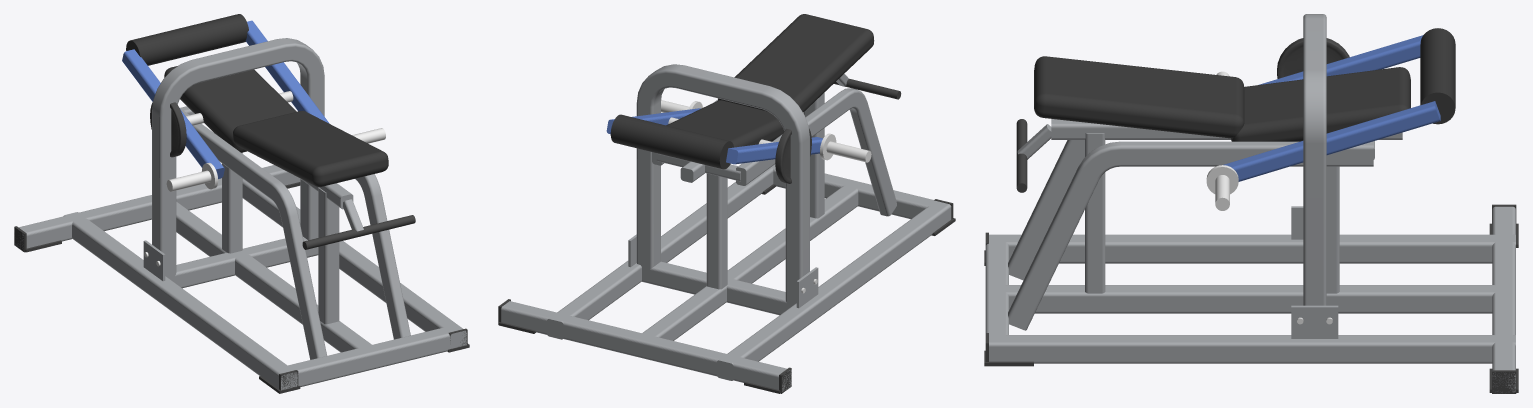
3 renders of one model, left to right at view 1: azimuth 30°, elevation 25°; view 2: azimuth 150°, elevation 25°; view 3: azimuth 270°, elevation 25°, orthographic. The views are drawn at different scales.
Visible parts, largest first — view 1: base, arch_tube, bench_rail_tube (×2), bench_pad_front, bench, bench_pad_rear, lever_roller, lever_support, lever_bar (×2), lever_tail (×2), lever_horn, lever_cam (+1 smaller); view 2: base, arch_tube, bench_pad_front, bench, bench_rail_tube, lever_roller, bench_pad_rear, lever_support, lever_bar, lever_horn, lever_cam, gusset; view 3: base, bench_rail_tube (×2), bench_pad_front, bench_pad_rear, bench, arch_tube, lever_bar (×2), lever_roller, lever_tail, gusset, lever_cam, lever_horn (+1 smaller).
Boxes of the visible parts, x1,y1,x2,y2 form: base: (14,165,466,390); arch_tube: (152,38,324,282); bench_rail_tube (×2): (180,108,410,359); bench_pad_front: (233,111,388,186); bench: (180,106,415,324); bench_pad_rear: (164,66,296,152); lever_roller: (126,14,248,65); lever_support: (168,237,318,288); lever_bar (×2): (122,20,302,117); lever_tail (×2): (183,88,329,178); lever_horn: (166,162,218,191); lever_cam: (150,102,186,157); base: (501,164,951,391); arch_tube: (636,64,809,309); bench_pad_front: (718,14,874,112); bench: (656,73,901,289); bench_rail_tube: (736,88,896,216); lever_roller: (610,114,733,169); bench_pad_rear: (666,100,783,147); lever_support: (642,261,786,315); lever_bar: (726,142,778,164); lever_horn: (820,133,871,162); lever_cam: (775,128,811,183); gusset: (796,267,818,308); base: (985,206,1515,392); bench_rail_tube (×2): (1008,140,1373,330); bench_pad_front: (1034,56,1244,138); bench_pad_rear: (1231,67,1410,141); bench: (1016,119,1402,293); arch_tube: (1303,14,1326,305); lever_bar (×2): (1326,35,1440,155); lever_roller: (1420,28,1455,124); lever_tail: (1223,141,1303,181); gusset: (1291,305,1338,338); lever_cam: (1277,38,1349,78); lever_horn: (1206,165,1238,210).
Size of the model in its own units: 1.35 by 1 by 1.83.
